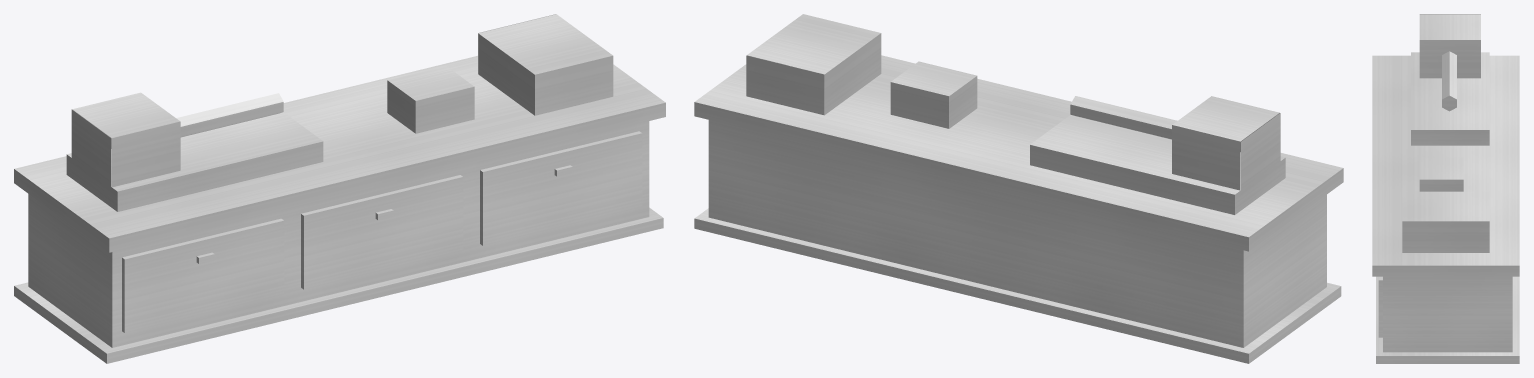
File: bench_machining.obj
3 views of the same model, side by side, from view 1: azimuth 30°, elevation 25°; view 2: azimuth 150°, elevation 25°; view 3: azimuth 270°, elevation 25° (orthographic). The views are drawn at different scales.
Parts seen in each view (by area): view 1: bench_machining; view 2: bench_machining; view 3: bench_machining.
Part boxes in pixels (bbox=[...]): bench_machining: bbox=[14, 14, 665, 363]; bench_machining: bbox=[694, 14, 1343, 363]; bench_machining: bbox=[1372, 14, 1519, 363].
Size of the model in its own units: 2.84 by 0.96 by 0.84.
